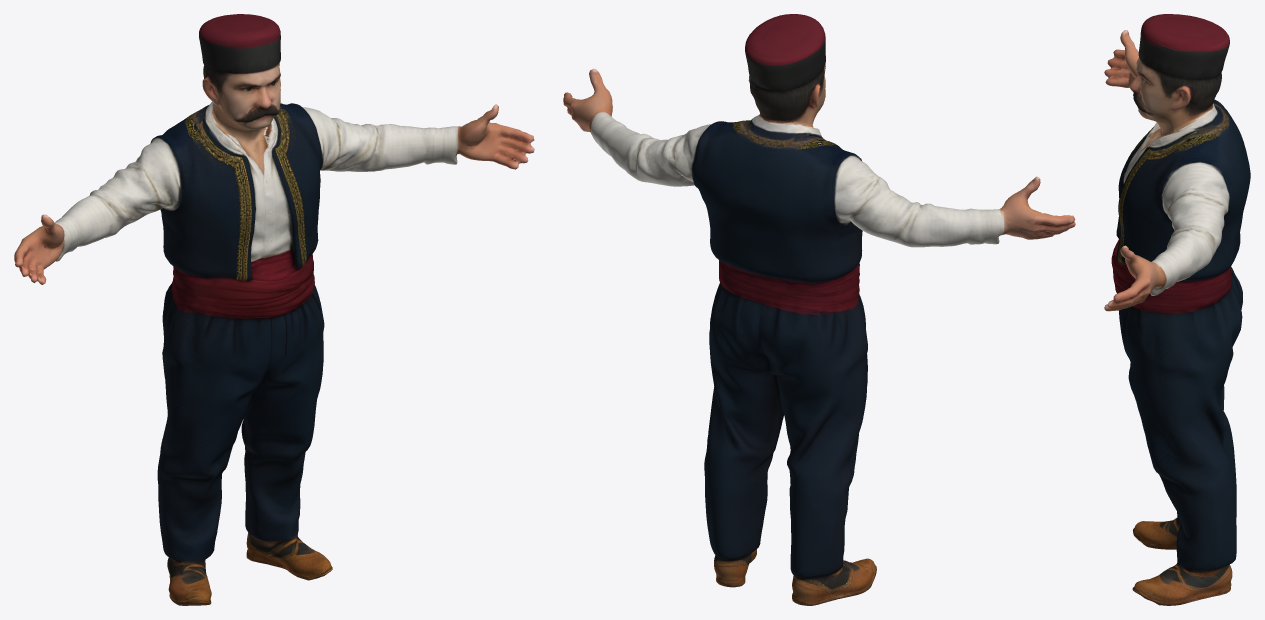
File: Montenegrin Soldier.fbx
3 views of the same model, side by side, from view 1: azimuth 30°, elevation 25°; view 2: azimuth 150°, elevation 25°; view 3: azimuth 270°, elevation 25° (orthographic). The views are drawn at different scales.
Parts seen in each view (by area): view 1: Mesh_0; view 2: Mesh_0; view 3: Mesh_0.
Boxes of the visible parts, <box> form: Mesh_0: <box>14,14,534,605</box>; Mesh_0: <box>563,14,1075,605</box>; Mesh_0: <box>1104,14,1250,605</box>.
Bounding box in the file's own units: 175 × 180 × 43.6.
